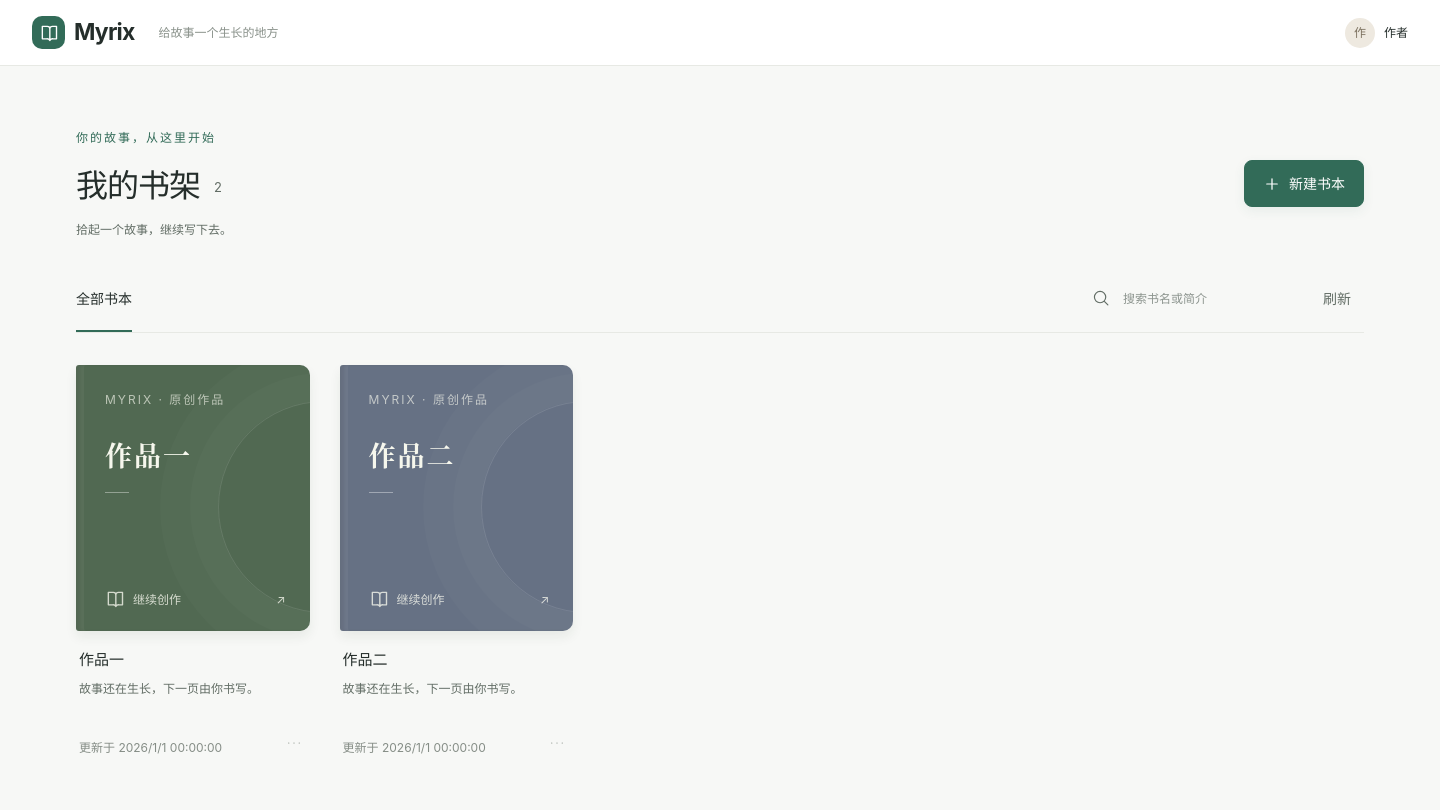
Test case: App 代际归属：迟到的异步回包不抢用户的新选择 › 新建会话（首条消息）期间切书：迟到的会话不选中，也不把首条消息发出去
Expected: the heading "我的书架 2" is shown, 76,160 -> 232,213
Click the button with aria-label "打开书本：作品二" at {"x": 456, "y": 498}, box 340,366 -> 573,632
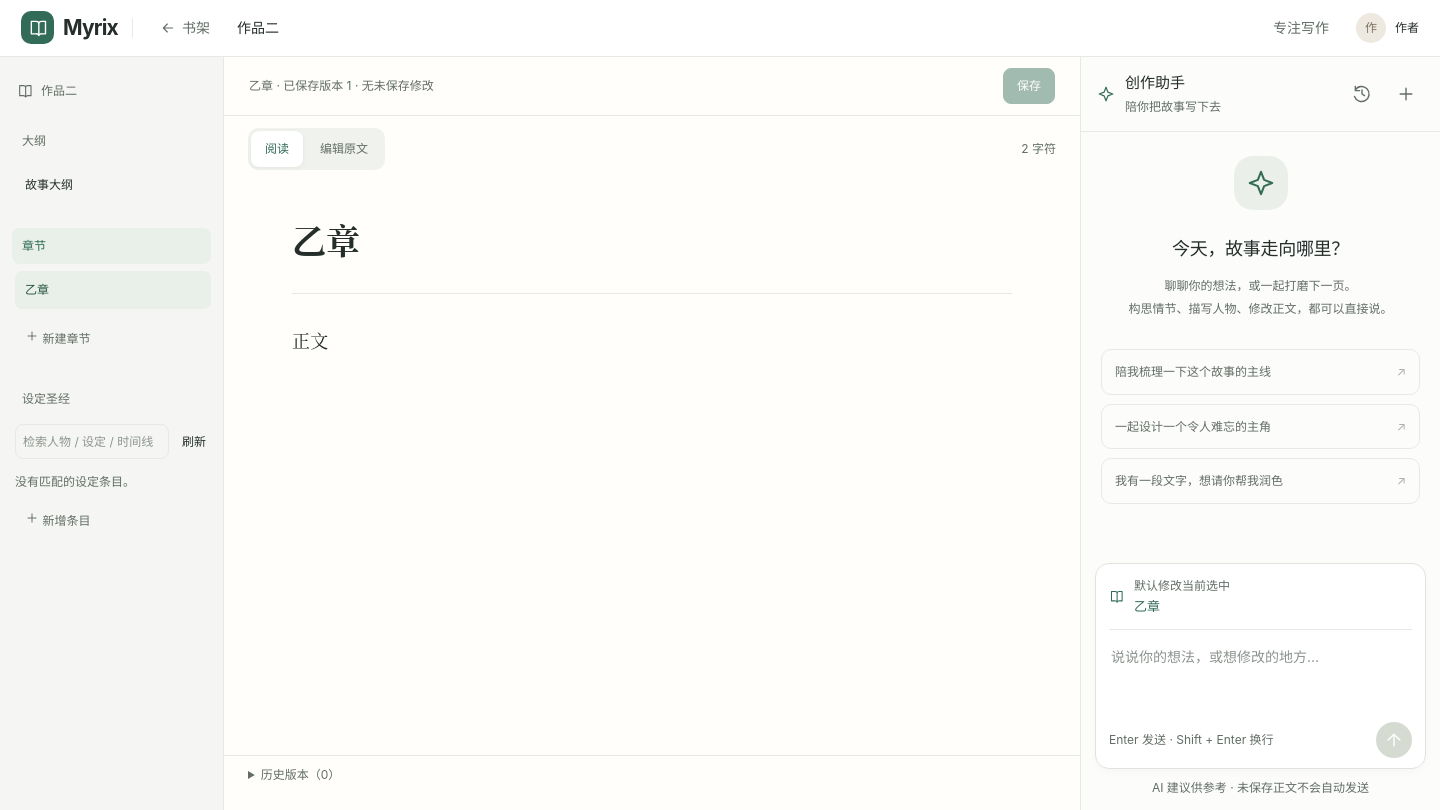
Now the element named "作品内容" is shown, box 224,57 -> 1080,809
Type "写个开头" into the text box named "消息输入" at {"x": 1260, "y": 678}, box 1109,642 -> 1412,714
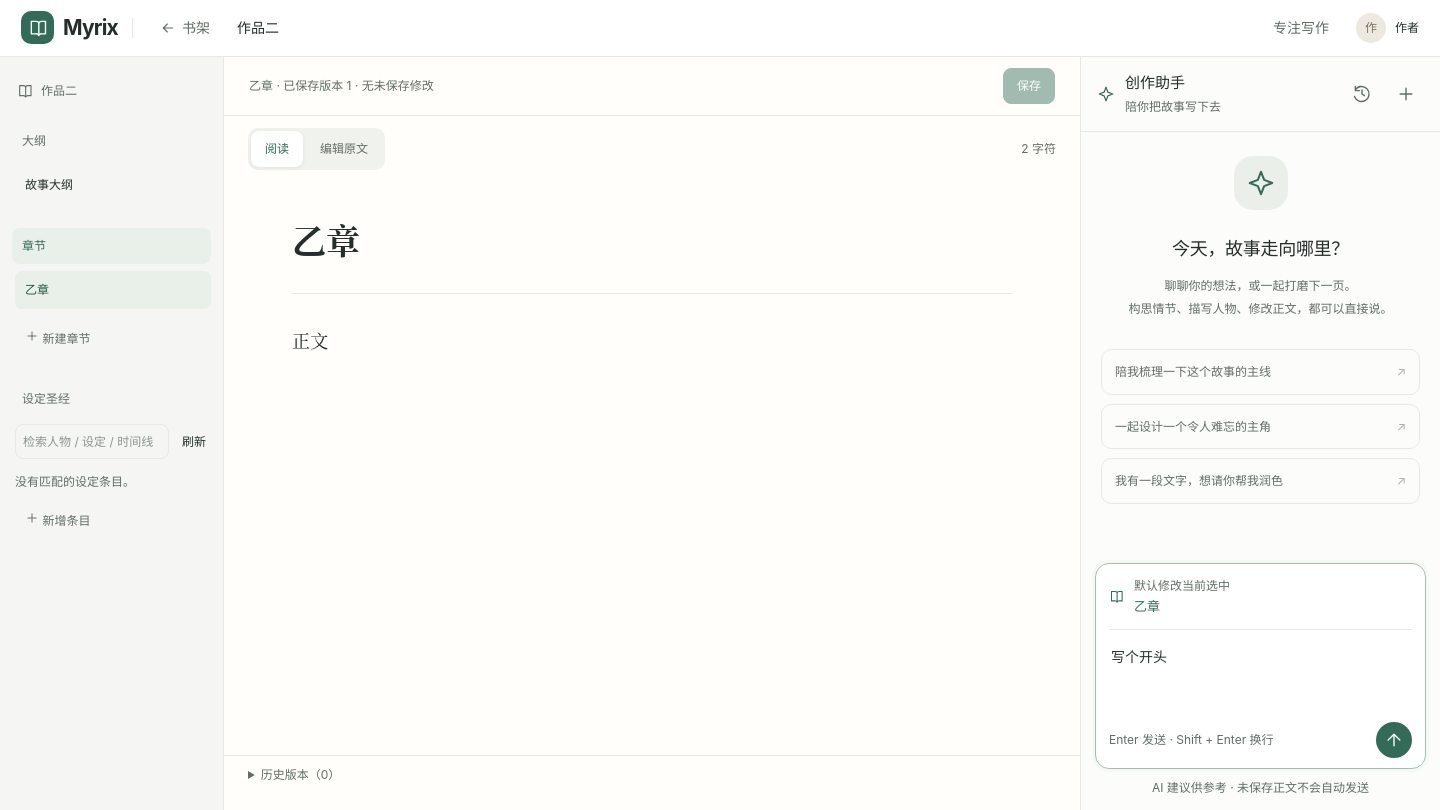
Press Enter
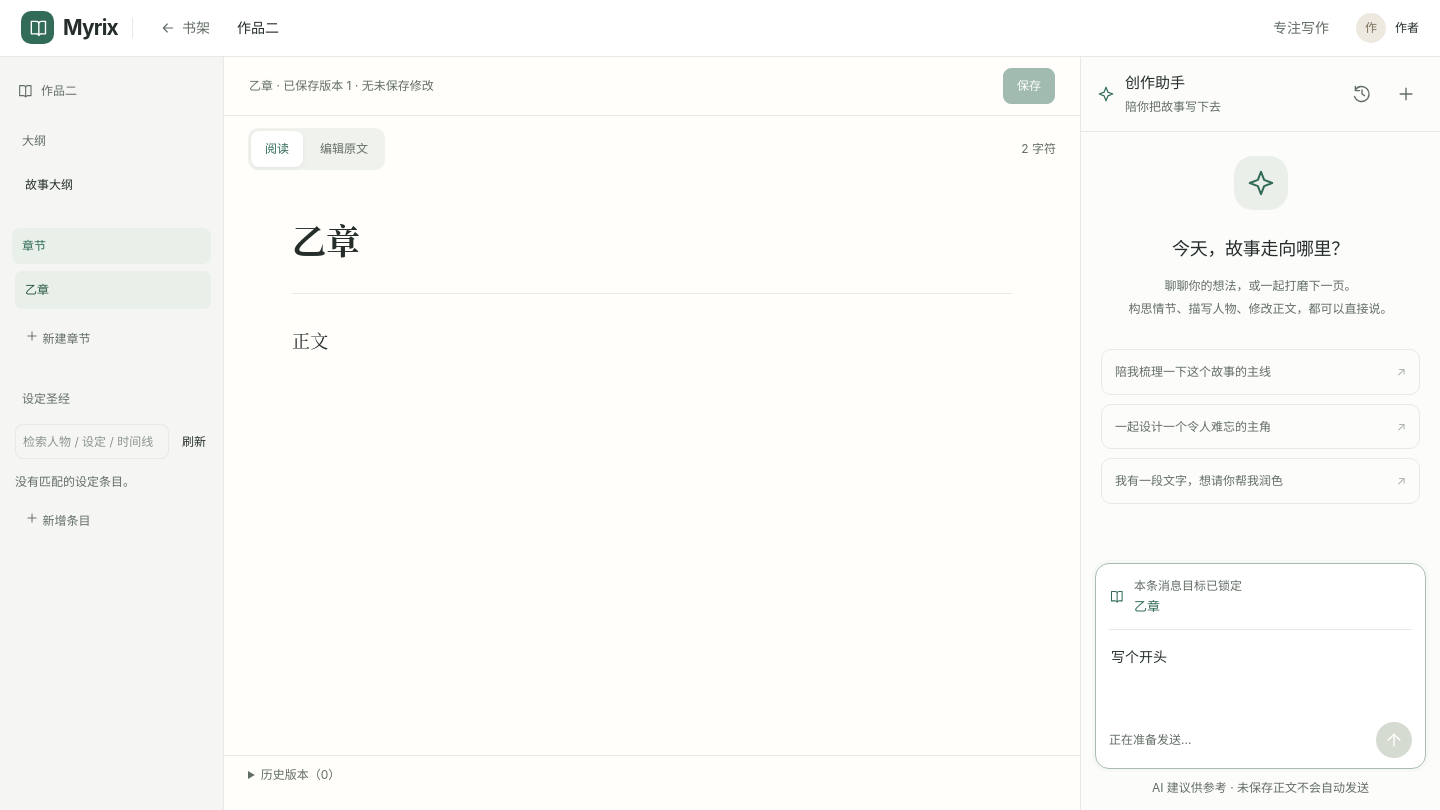
Click the button "书架" at {"x": 185, "y": 28}, box 147,8 -> 223,48
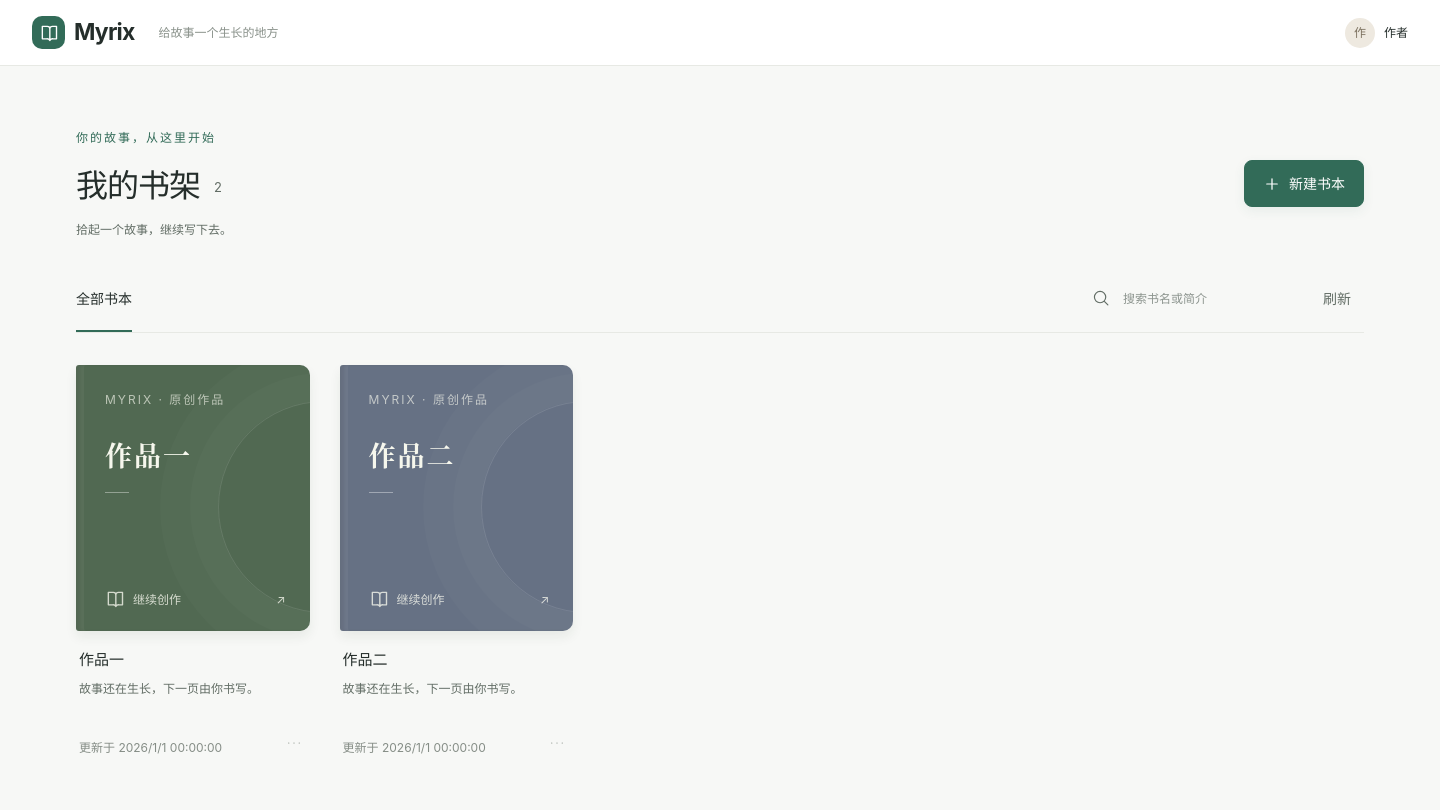
Now the heading "我的书架 2" is shown, box 76,160 -> 232,213
Now the element "作品内容" is gone
Click the button with aria-label "打开书本：作品一" at {"x": 193, "y": 498}, box 76,366 -> 310,632
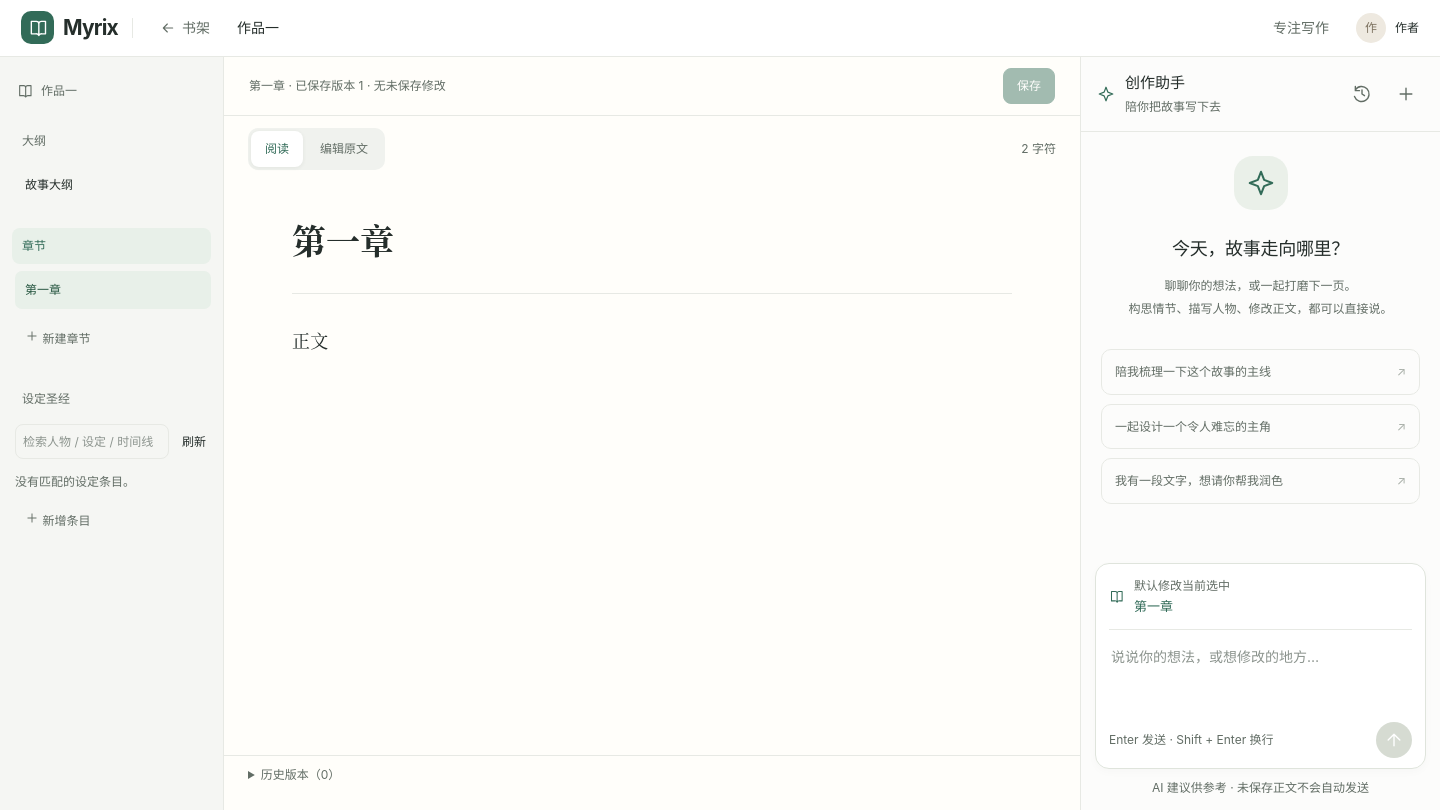
Now the element named "作品内容" is shown, box 224,57 -> 1080,809
Click the button named "历史对话" at {"x": 1362, "y": 94}, box 1344,76 -> 1380,112
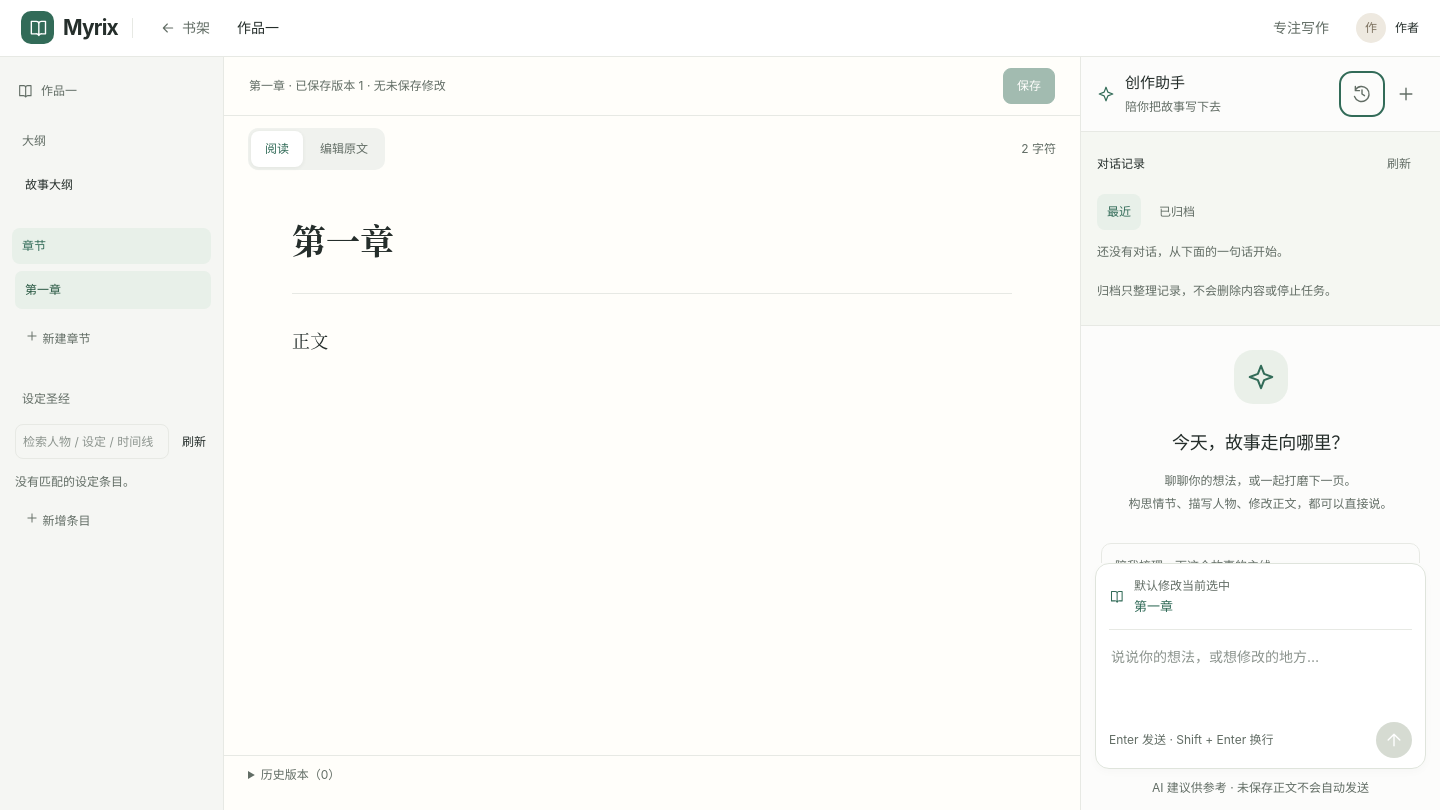
Now the text "对话记录" is shown, box 1097,154 -> 1145,173
Now the text "还没有对话，从下面的一句话开始。" is shown, box 1097,244 -> 1289,258
